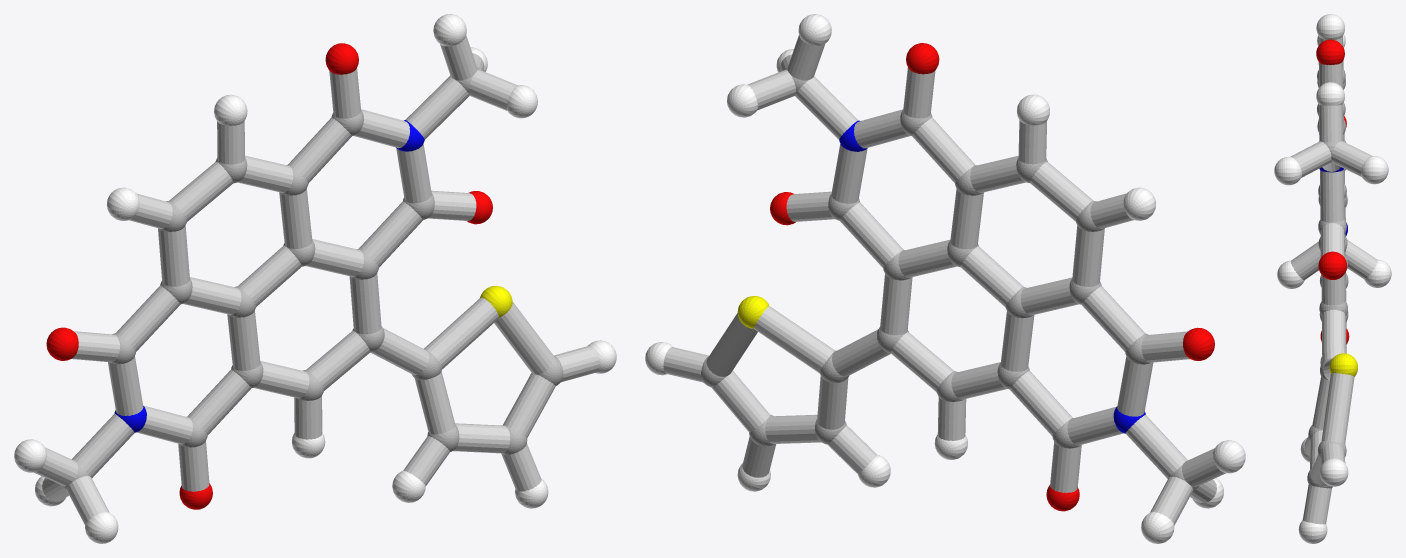
File: Dimethyl_Naphthalene_Dicarboximide_Phi_5_Theta_170_Thiophene.glb
3 renders of one model, left to right at view 1: azimuth 30°, elevation 25°; view 2: azimuth 150°, elevation 25°; view 3: azimuth 270°, elevation 25°, orthographic. The views are drawn at different scales.
Visible parts, largest first — view 1: grp14119, grp7241, grp1, grp12309, grp11585; view 2: grp14119, grp7241, grp1, grp12309, grp11585, grp13757; view 3: grp14119, grp7241, grp1, grp12309, grp13757.
Part boxes in pixels (<box>): grp14119: <box>34,35,599,525</box>; grp7241: <box>14,14,616,543</box>; grp1: <box>61,67,563,490</box>; grp12309: <box>46,43,492,509</box>; grp11585: <box>114,120,424,432</box>; grp14119: <box>663,35,1226,525</box>; grp7241: <box>645,14,1245,543</box>; grp1: <box>701,67,1198,491</box>; grp12309: <box>770,43,1214,511</box>; grp11585: <box>839,120,1145,433</box>; grp13757: <box>737,296,769,328</box>; grp14119: <box>1290,36,1377,524</box>; grp7241: <box>1274,14,1391,543</box>; grp1: <box>1307,69,1348,488</box>; grp12309: <box>1316,39,1349,344</box>; grp13757: <box>1329,353,1357,376</box>.
Size of the model in its own units: 12.36 by 9.89 by 2.45.
